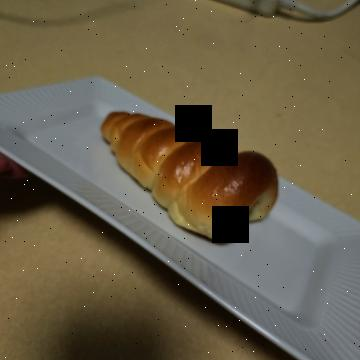cream horn: (95, 70, 257, 270)
